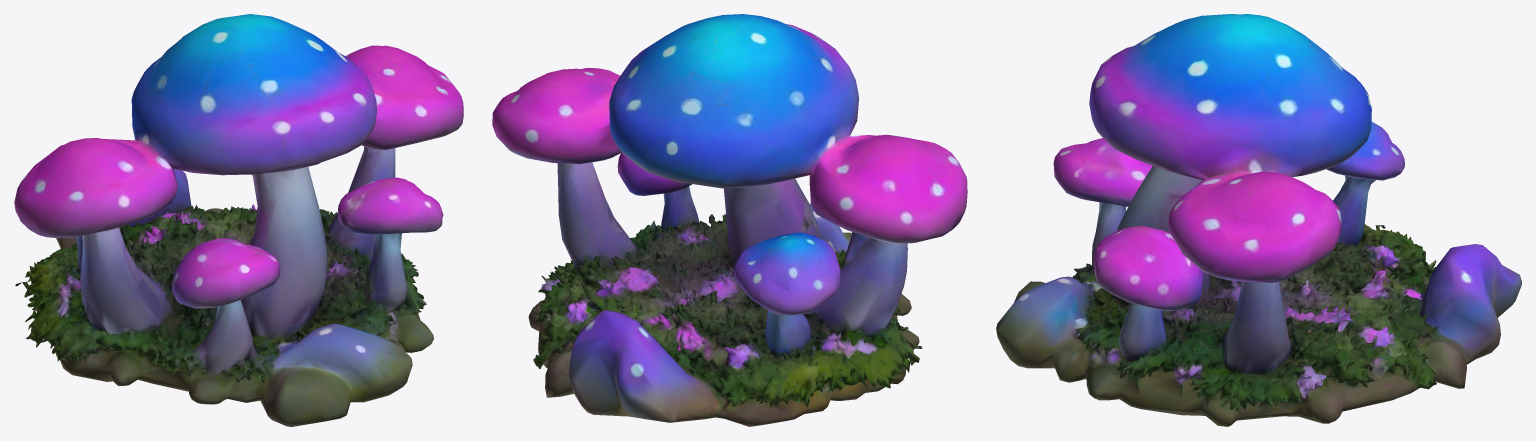
Rendered from mushrooms.glb.
3 views of the same model, side by side, from view 1: azimuth 30°, elevation 25°; view 2: azimuth 150°, elevation 25°; view 3: azimuth 270°, elevation 25° (orthographic). The views are drawn at different scales.
Bounding box in the file's own units: 2 × 1.38 × 1.97.
1 material, 1 textured.
